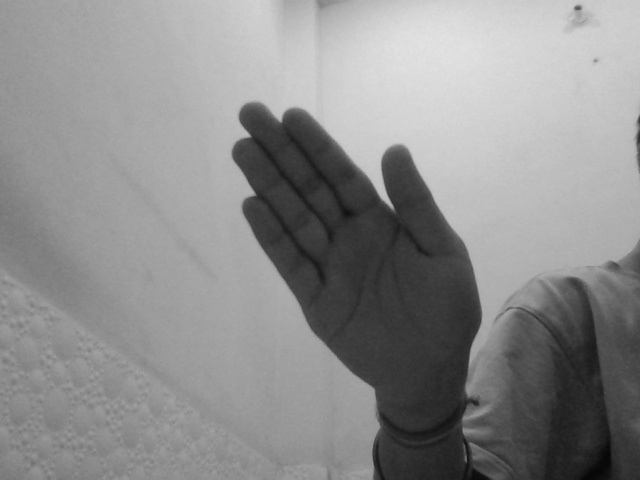Hello: (226, 99, 486, 423)
